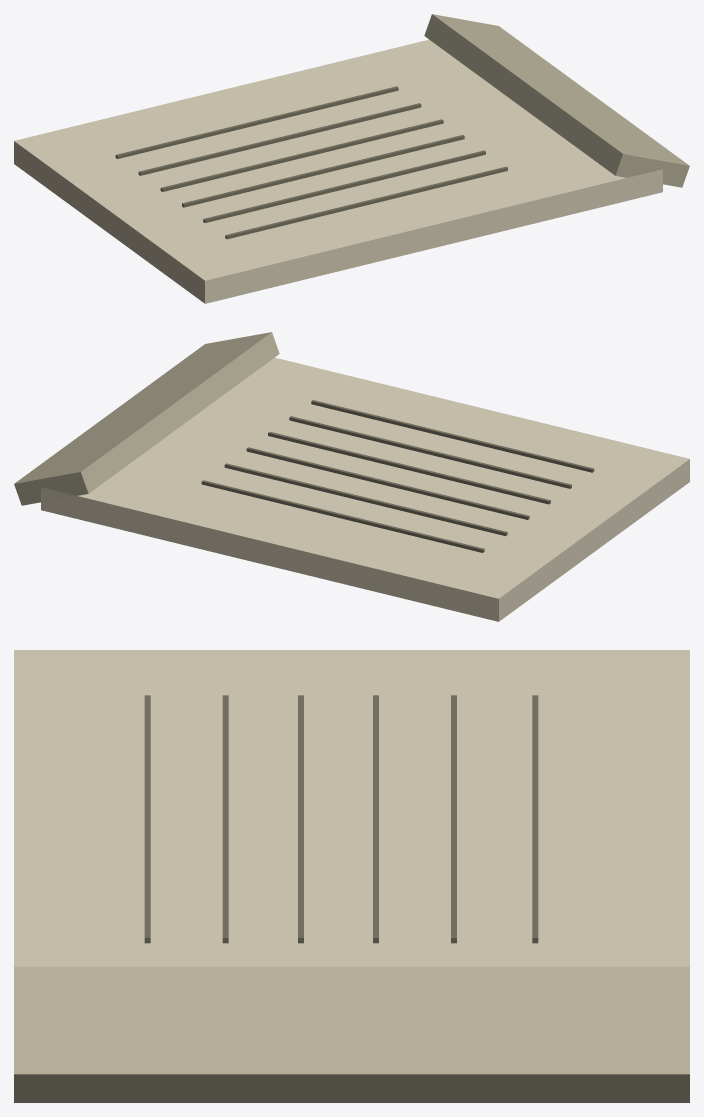
Rendered from loose_newspaper.glb.
The picture shows the model from 3 angles, top to bottom: view 1: azimuth 30°, elevation 25°; view 2: azimuth 150°, elevation 25°; view 3: azimuth 270°, elevation 25°; orthographic projection. The views are drawn at different scales.
Parts seen in each view (by area): view 1: Folded newspaper, Front fold, Print.003, Print.005, Print.004, Print.001, Print.002, Print; view 2: Folded newspaper, Front fold, Print, Print.002, Print.003, Print.004, Print.005, Print.001; view 3: Folded newspaper, Front fold, Print, Print.001, Print.005, Print.002, Print.003, Print.004.
Part boxes in pixels (left/top/right/bottom): Folded newspaper: left=14, top=39, right=662, bottom=303; Front fold: left=424, top=14, right=689, bottom=187; Print.003: left=160, top=119, right=443, bottom=191; Print.005: left=115, top=86, right=398, bottom=158; Print.004: left=138, top=103, right=421, bottom=175; Print.001: left=203, top=150, right=485, bottom=222; Print.002: left=182, top=135, right=464, bottom=207; Print: left=225, top=166, right=507, bottom=239; Folded newspaper: left=41, top=357, right=689, bottom=621; Front fold: left=14, top=332, right=279, bottom=505; Print: left=311, top=400, right=594, bottom=472; Print.002: left=268, top=432, right=550, bottom=504; Print.003: left=246, top=447, right=529, bottom=519; Print.004: left=224, top=463, right=507, bottom=536; Print.005: left=201, top=480, right=484, bottom=552; Print.001: left=289, top=416, right=571, bottom=488; Folded newspaper: left=14, top=650, right=689, bottom=966; Front fold: left=14, top=966, right=689, bottom=1102; Print: left=144, top=695, right=150, bottom=943; Print.001: left=222, top=695, right=228, bottom=943; Print.005: left=532, top=695, right=538, bottom=943; Print.002: left=298, top=695, right=303, bottom=943; Print.003: left=373, top=695, right=378, bottom=943; Print.004: left=451, top=695, right=456, bottom=943.
Size of the model in its own units: 0.3295 by 0.0313 by 0.225.
